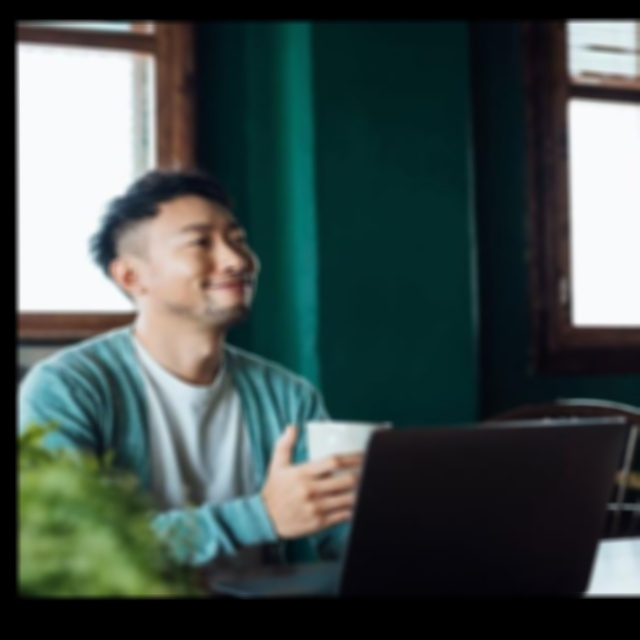Sin_Casco_Mascarrilla: (91, 168, 264, 320)
